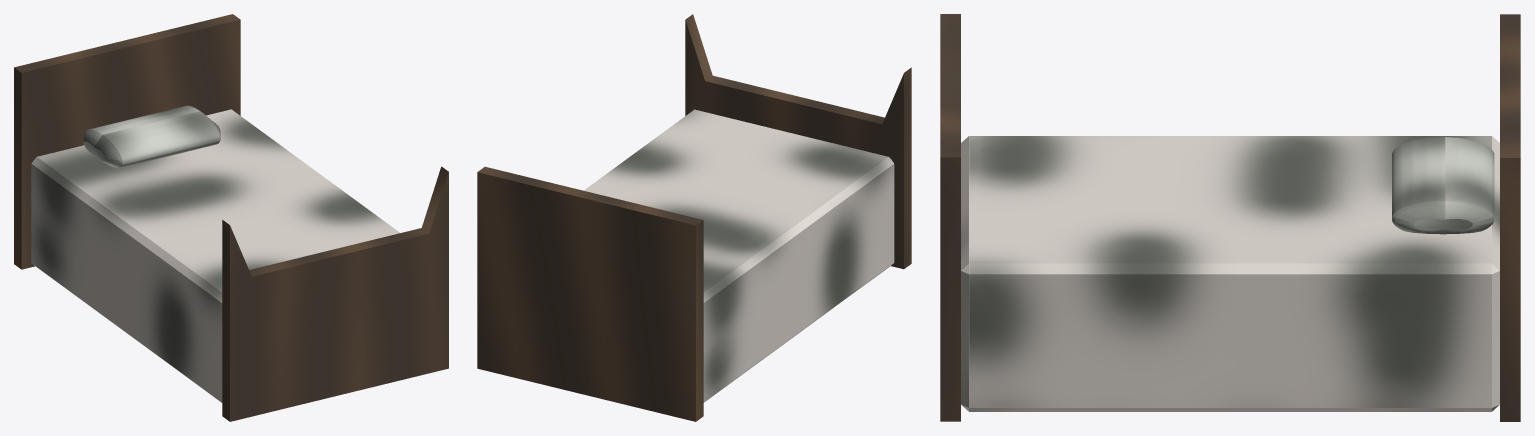
The model's file is Bed1.fbx.
3 renders of one model, left to right at view 1: azimuth 30°, elevation 25°; view 2: azimuth 150°, elevation 25°; view 3: azimuth 270°, elevation 25°, orthographic. The views are drawn at different scales.
Visible parts, largest first — view 1: pCylinder2; view 2: pCylinder2; view 3: pCylinder2.
Part boxes in pixels (x1,y1,x2,y2): pCylinder2: (14, 14, 448, 421); pCylinder2: (477, 14, 911, 421); pCylinder2: (940, 14, 1520, 421).
Bounding box in the file's own units: 124 × 107 × 212.
